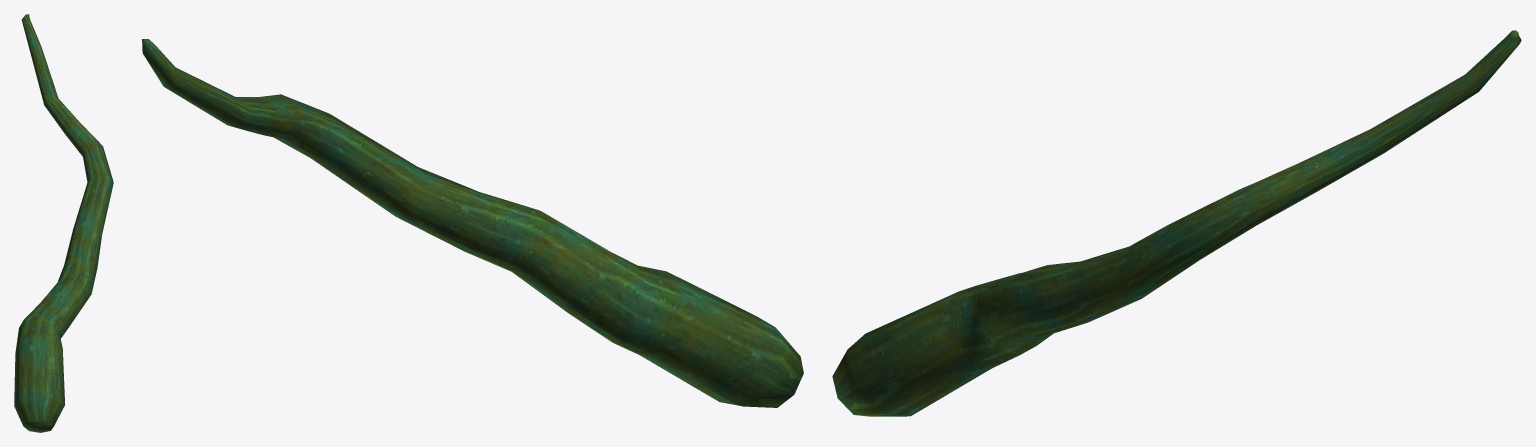
File: MIRKWOOD_MIRK_PLAYSURFACE69.fbx
The picture shows the model from 3 angles, left to right: view 1: azimuth 30°, elevation 25°; view 2: azimuth 150°, elevation 25°; view 3: azimuth 270°, elevation 25°; orthographic projection. The views are drawn at different scales.
Parts seen in each view (by area): view 1: MIRKWOOD_MIRK_PLAYSURFACE69; view 2: MIRKWOOD_MIRK_PLAYSURFACE69; view 3: MIRKWOOD_MIRK_PLAYSURFACE69.
Part boxes in pixels (left/top/right/bottom): MIRKWOOD_MIRK_PLAYSURFACE69: left=14, top=14, right=113, bottom=432; MIRKWOOD_MIRK_PLAYSURFACE69: left=142, top=39, right=803, bottom=407; MIRKWOOD_MIRK_PLAYSURFACE69: left=832, top=30, right=1521, bottom=416.
Bounding box in the file's own units: 31210 × 45722 × 53947.
Materials: 1 (1 with a texture image).
